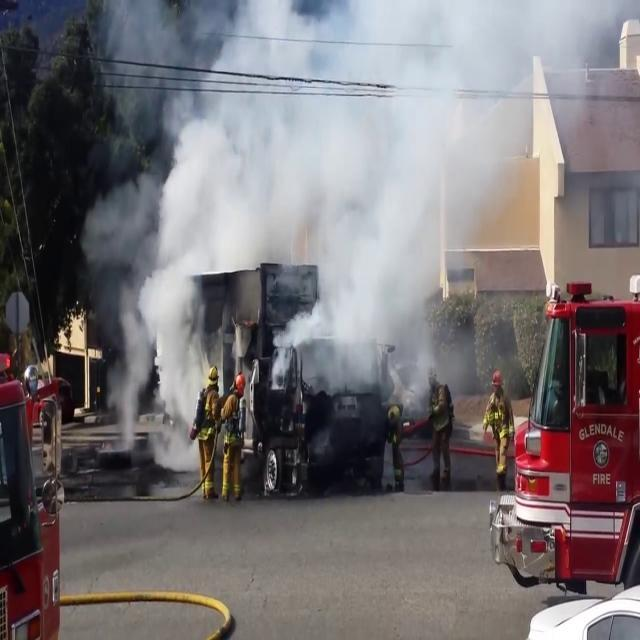Smoke: (86, 0, 474, 424)
